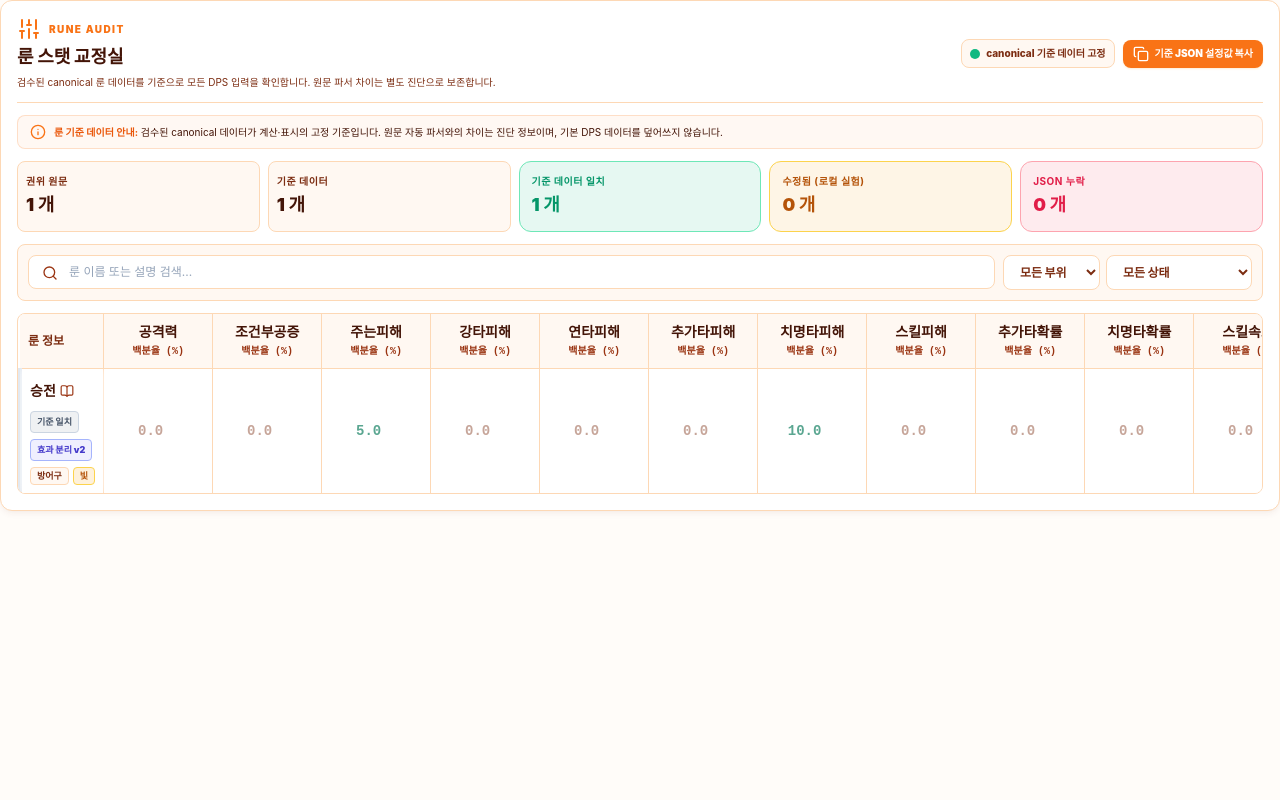
RuneAuditDashboard light-mode equipped rune and dictionary › marks effect-model v2 runes and describes their individual conditional effects
Expected: the text "효과 분리 v2" is shown, [30,439,92,461]
Click the button with aria-label "승전 사전 데이터 보기" at (52, 391), box [26,377,78,405]
(page scrolled)
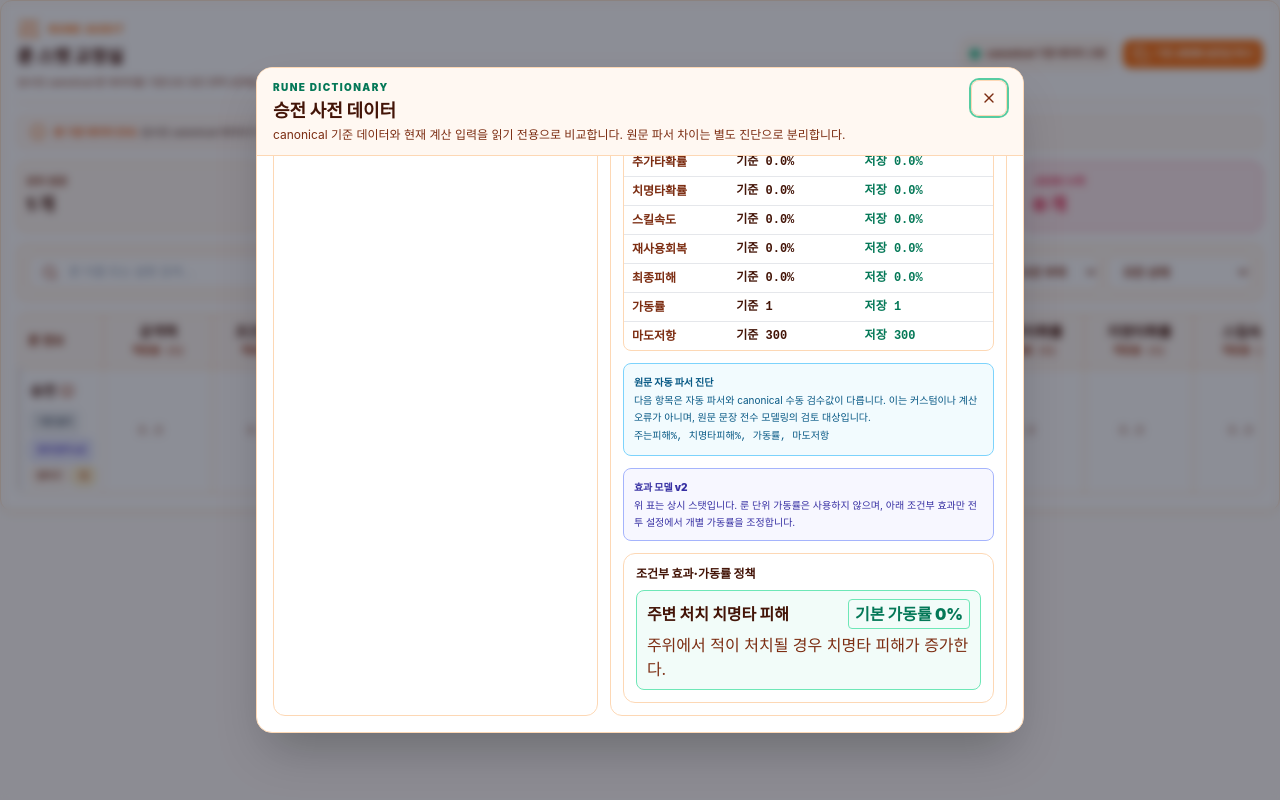
Result: the text "효과 모델 v2" is shown at [634,481,688,493]
Result: the heading "조건부 효과·가동률 정책" is shown at [636,566,756,581]
Result: the text "주변 처치 치명타 피해" is shown at [647,602,789,626]
